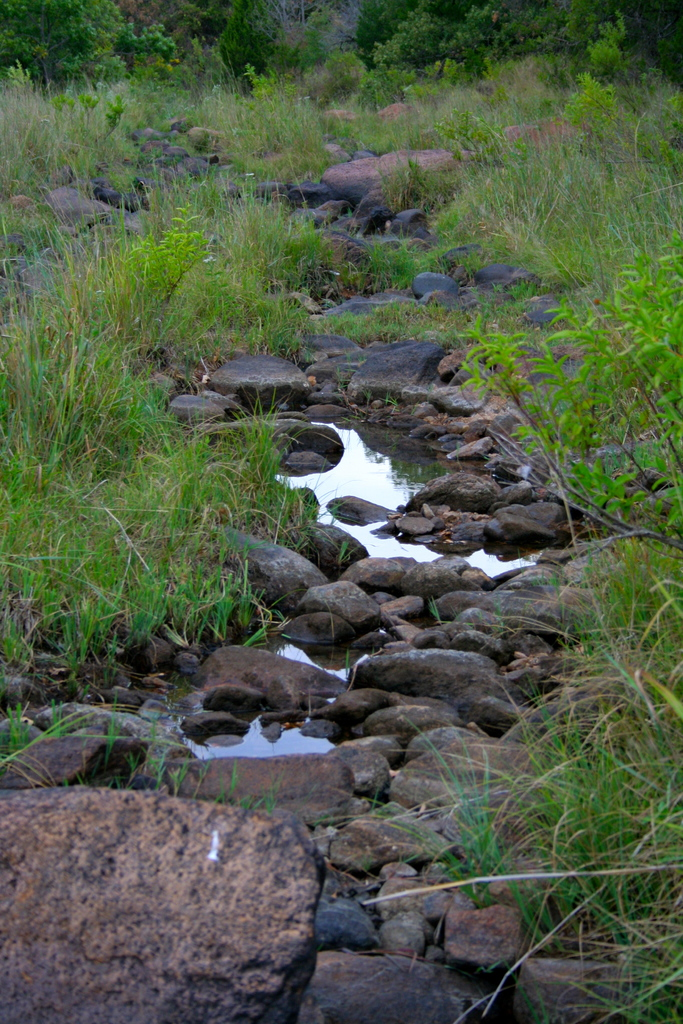Tree: (0, 0, 682, 88)
